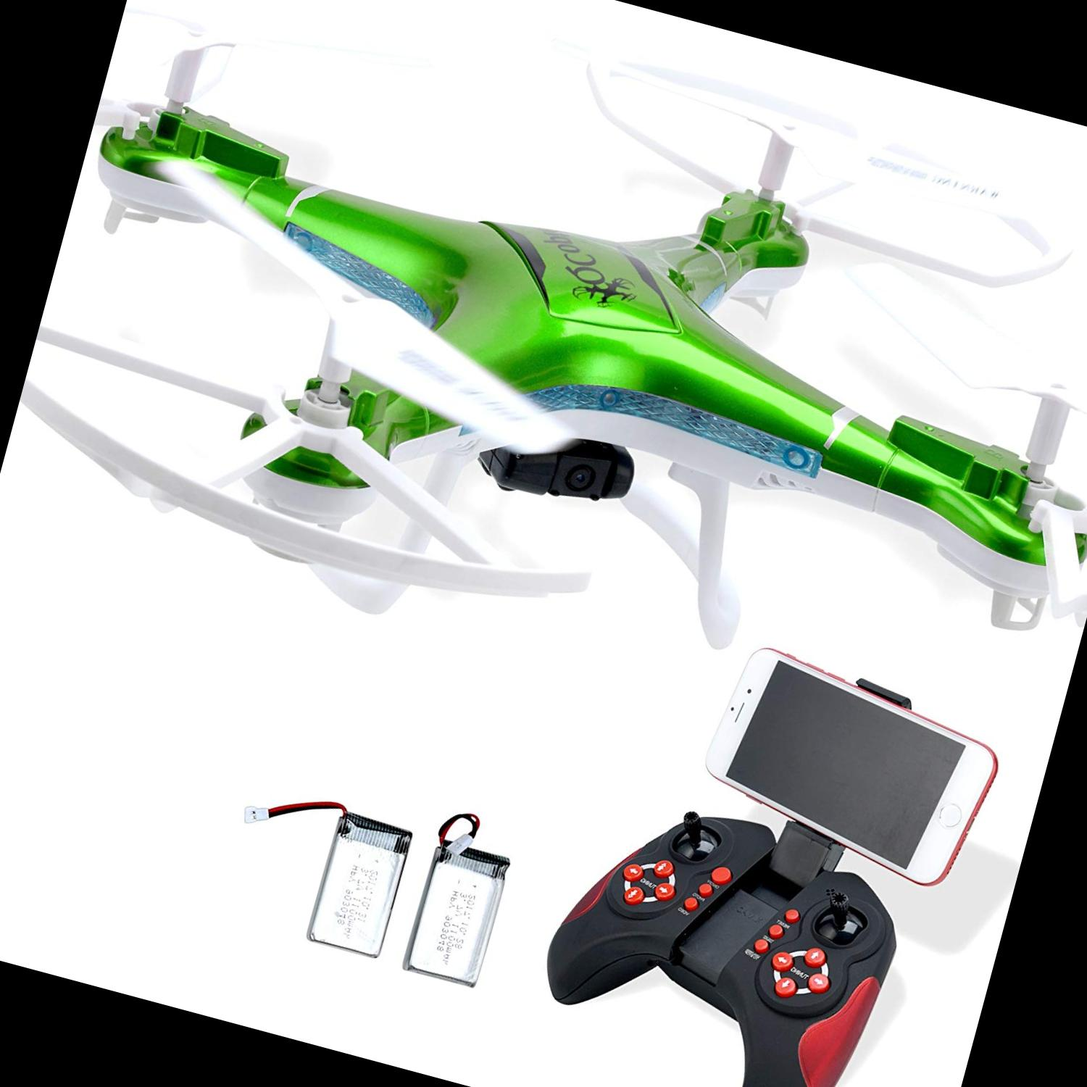drone: (0, 0, 1087, 786)
